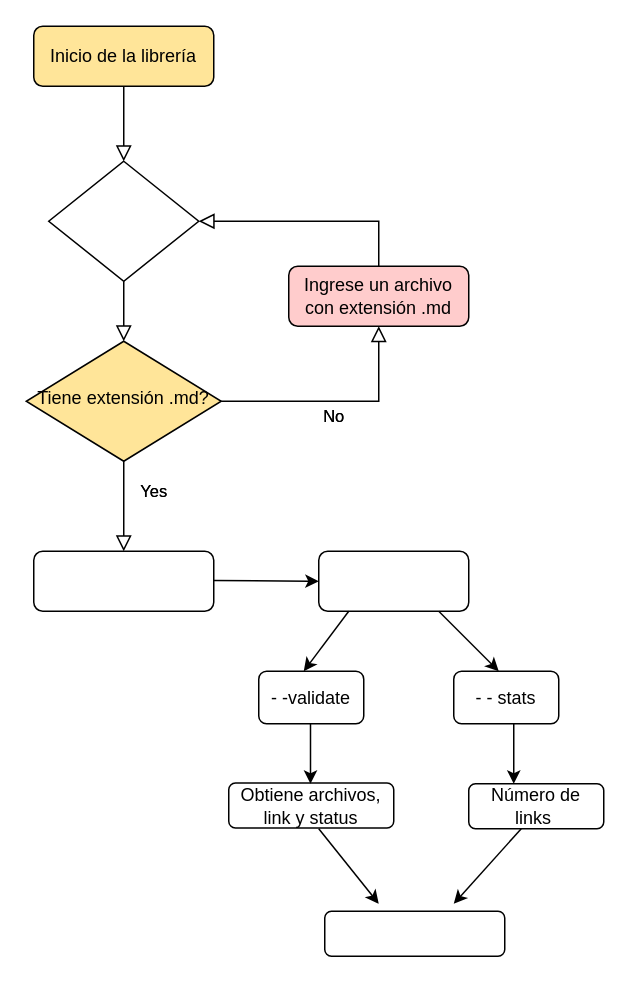
The diagram is 630 pixels wide and 983 high, and some of its shapes have lost their labels. Each missing label, with the centre of its shape:
Buscarf la ruta absoluta: the point at 393,580
Ingresar un archivo: the point at 123,220
Mostrar en consola: the point at 414,933
Obtener link: the point at 123,580
